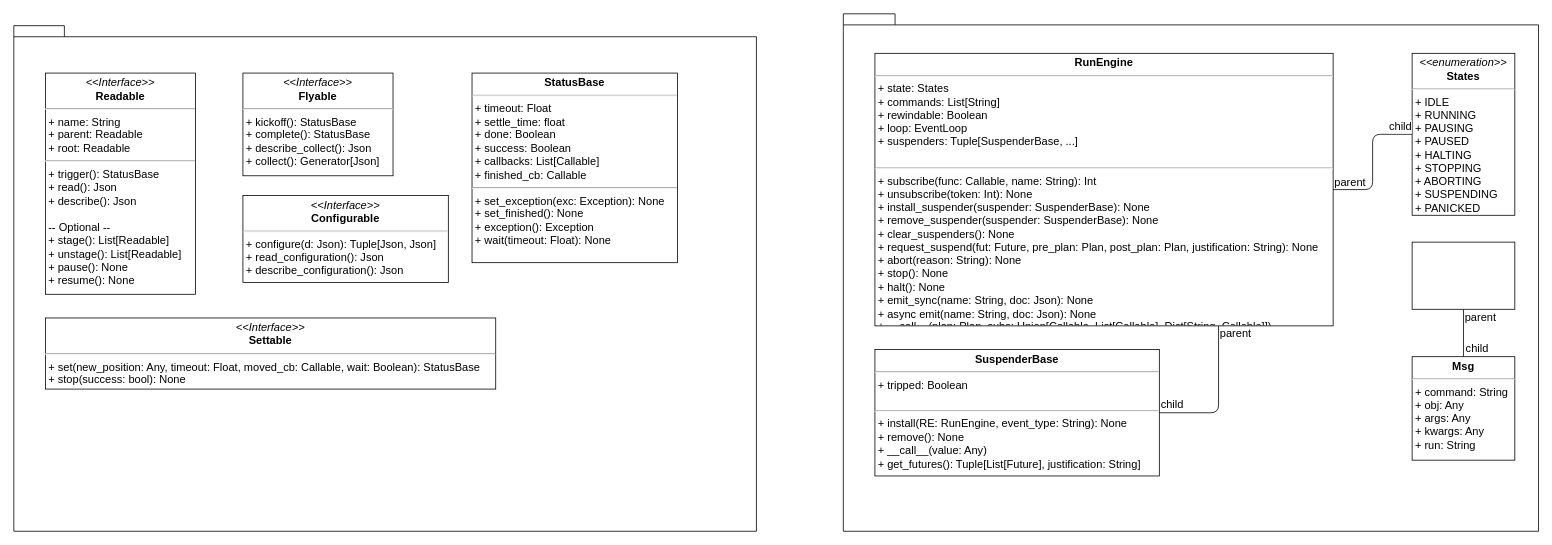
Some shapes in this 1552 by 545 pixel diagram are drawn without their labels. The box of each missing label's shape, as (x1, y1, x2, y2) in pixels:
<<type>> Plan Iterable[Msg]: (1411, 241, 1515, 309)
Device Layer (e.g. Ophyd/Bluefly): (13, 25, 756, 531)
Run Layer: (843, 13, 1539, 531)
